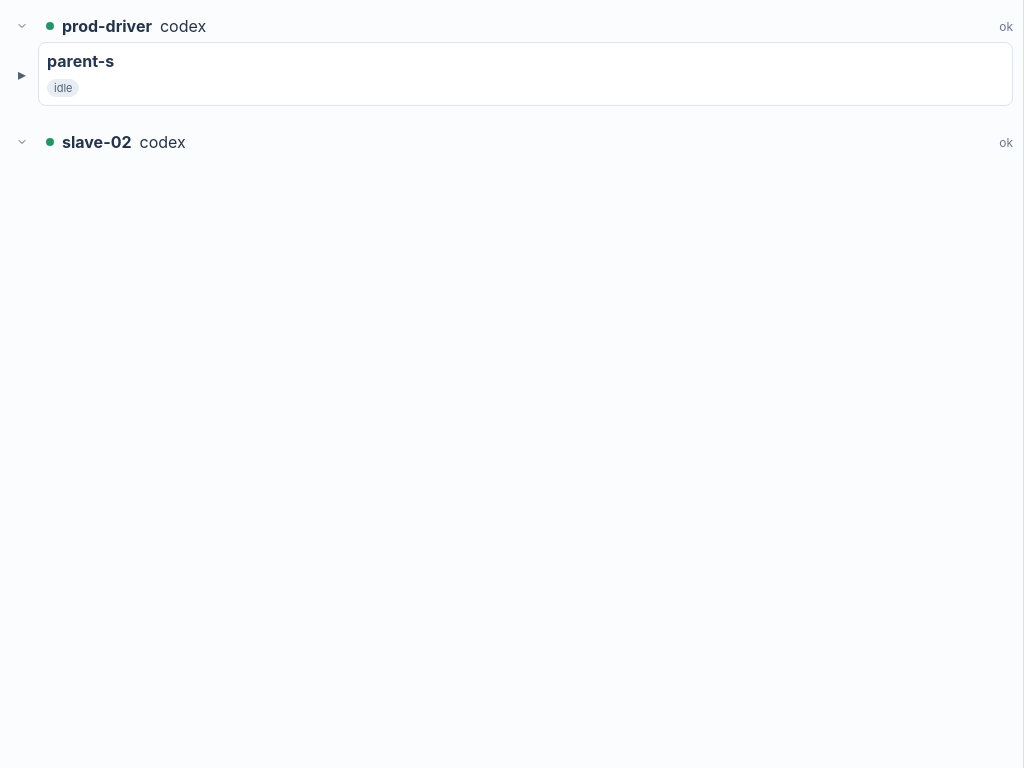
nests a remote agent_task child under a parent in another daemon (default-collapsed)
Expected: the text "remote task · on slave-02" is not shown
Expected: the number of elements with test id "root-session" is 1, 10,42 -> 1013,106
Click the button named "展开 subagent sessions: parent-s" at (22, 74), box 10,42 -> 34,106
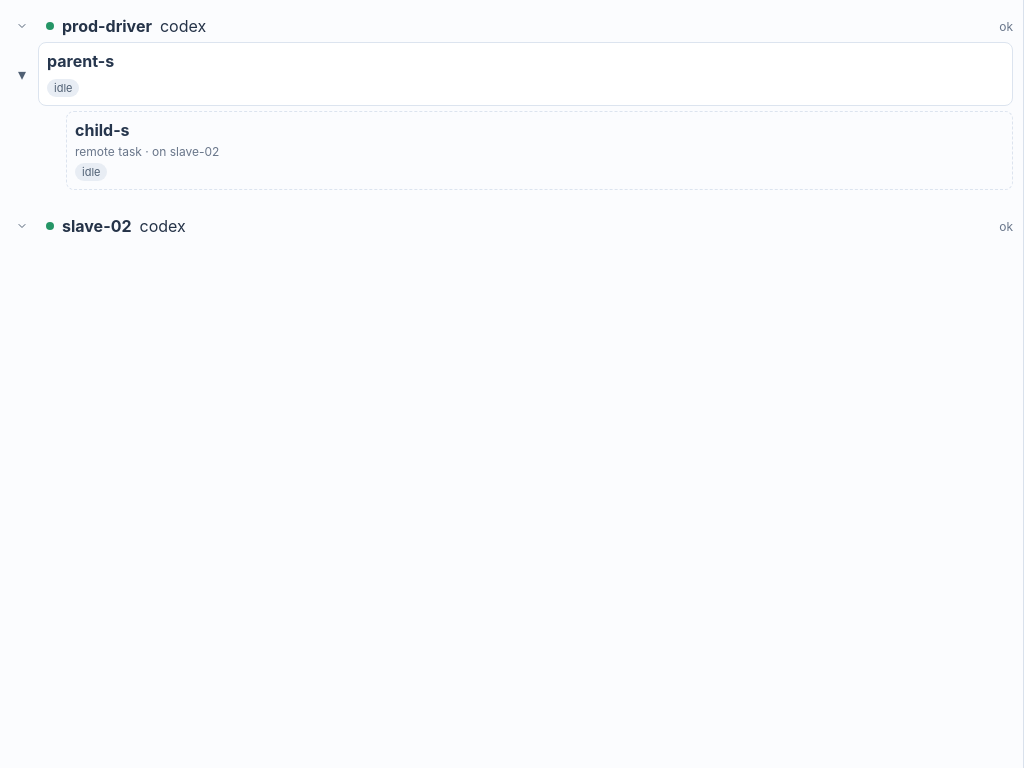
Expected: the text "remote task · on slave-02" is shown, 75,144 -> 219,159
